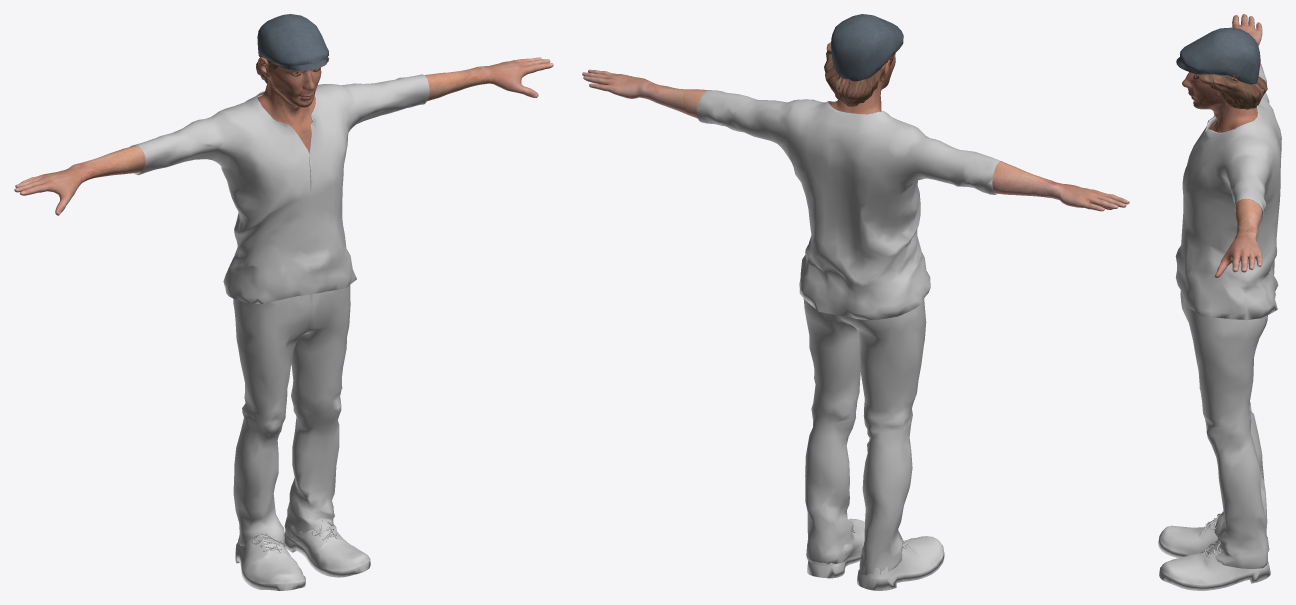
The model's file is decimated-60_LeonTraveler.fbx.
3 renders of one model, left to right at view 1: azimuth 30°, elevation 25°; view 2: azimuth 150°, elevation 25°; view 3: azimuth 270°, elevation 25°, orthographic. The views are drawn at different scales.
Parts seen in each view (by area): view 1: Tops, Bottoms, Body, Shoes, Hats; view 2: Tops, Bottoms, Body, Shoes, Hats, Hair; view 3: Tops, Bottoms, Shoes, Body, Hats, Hair.
Part boxes in pixels (x1=…): Tops: x1=130, y1=74, x2=429, y2=303; Bottoms: x1=233, y1=285, x2=350, y2=546; Body: x1=14, y1=57, x2=553, y2=215; Shoes: x1=235, y1=519, x2=370, y2=590; Hats: x1=257, y1=14, x2=328, y2=70; Tops: x1=696, y1=90, x2=1000, y2=319; Bottoms: x1=803, y1=299, x2=926, y2=574; Body: x1=582, y1=53, x2=1129, y2=211; Shoes: x1=807, y1=518, x2=944, y2=590; Hats: x1=831, y1=14, x2=903, y2=81; Hair: x1=824, y1=42, x2=894, y2=106; Tops: x1=1175, y1=66, x2=1281, y2=320; Bottoms: x1=1180, y1=291, x2=1268, y2=568; Shoes: x1=1158, y1=512, x2=1270, y2=590; Body: x1=1182, y1=14, x2=1262, y2=277; Hats: x1=1176, y1=27, x2=1260, y2=84; Hair: x1=1195, y1=74, x2=1267, y2=109.
Bounding box in the file's own units: 18711 × 18205 × 3820.
